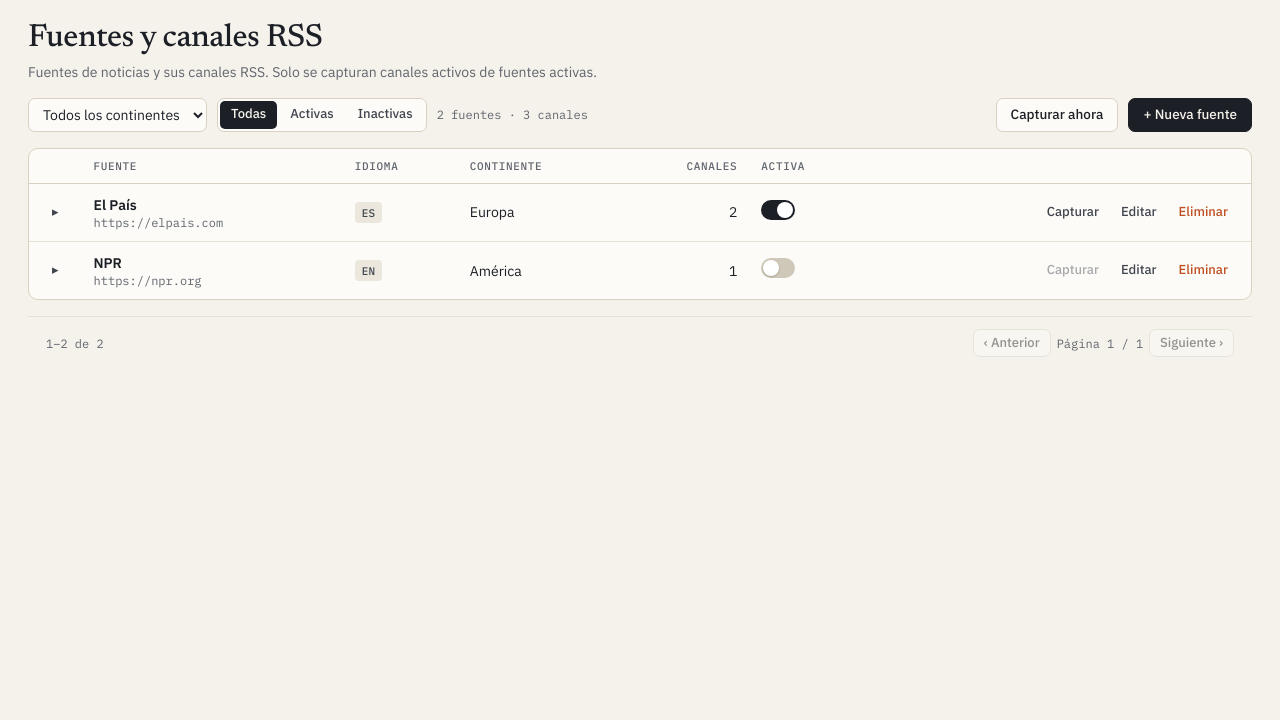
Test case: SourcesPage › manual capture › uses the error style when sources failed
This screenshot has width=1280, height=720.
Expected: the text "El País" is shown, [94, 196, 137, 214]
Click the button "Capturar ahora". click: (1057,115)
box: [996, 98, 1118, 132]
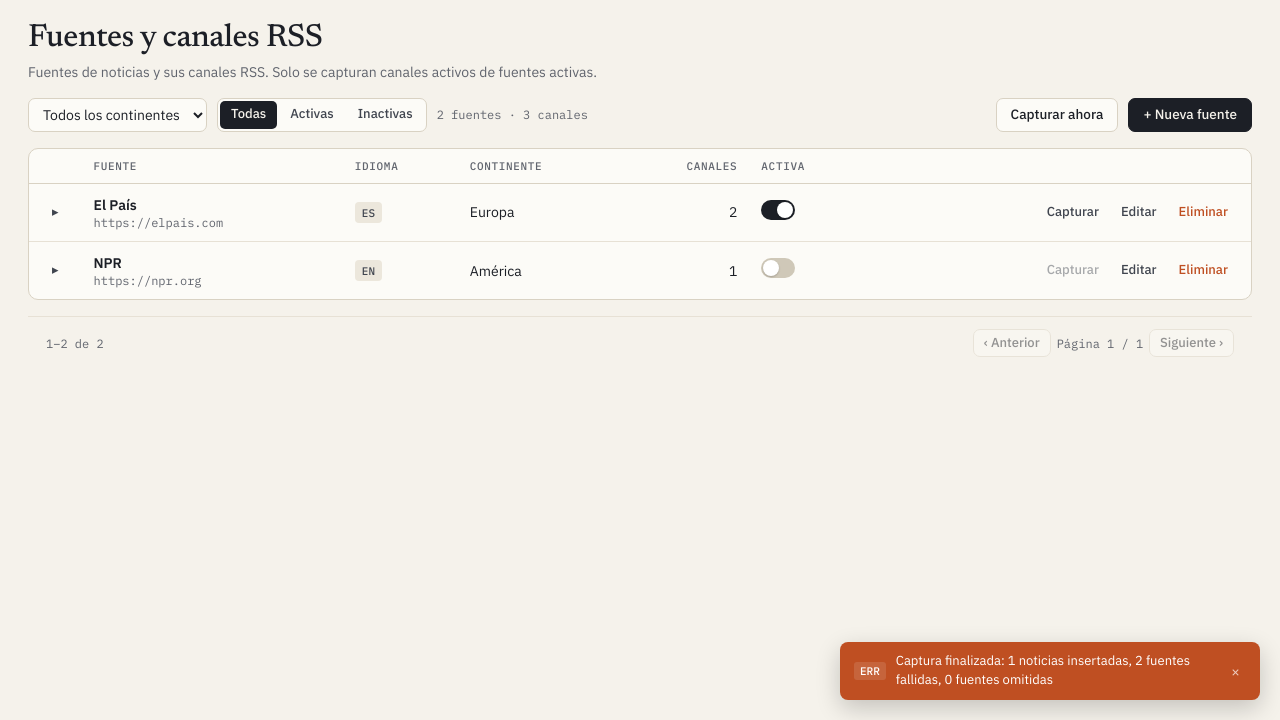
Result: the text "2 fuentes fallidas" is shown at [896, 652, 1190, 688]
